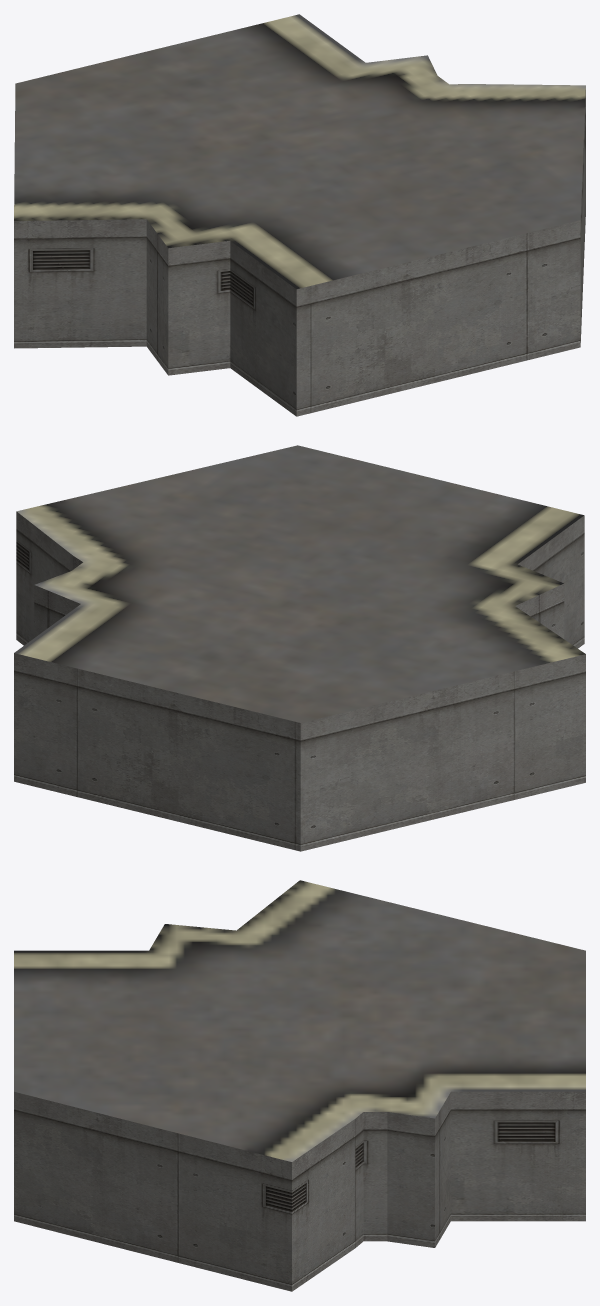
File: building_medium_45.glb
The picture shows the model from 3 angles, top to bottom: view 1: azimuth 30°, elevation 25°; view 2: azimuth 150°, elevation 25°; view 3: azimuth 270°, elevation 25°; orthographic projection.
Parts seen in each view (by area): view 1: buildings/saxarba/building_medium/building_medium_45; view 2: buildings/saxarba/building_medium/building_medium_45; view 3: buildings/saxarba/building_medium/building_medium_45.
Part boxes in pixels (box(x1,y1,x2,y2)): buildings/saxarba/building_medium/building_medium_45: box(14, 14, 585, 416); buildings/saxarba/building_medium/building_medium_45: box(14, 445, 585, 851); buildings/saxarba/building_medium/building_medium_45: box(14, 880, 585, 1291).
Bounding box in the file's own units: 84 × 18 × 72.
